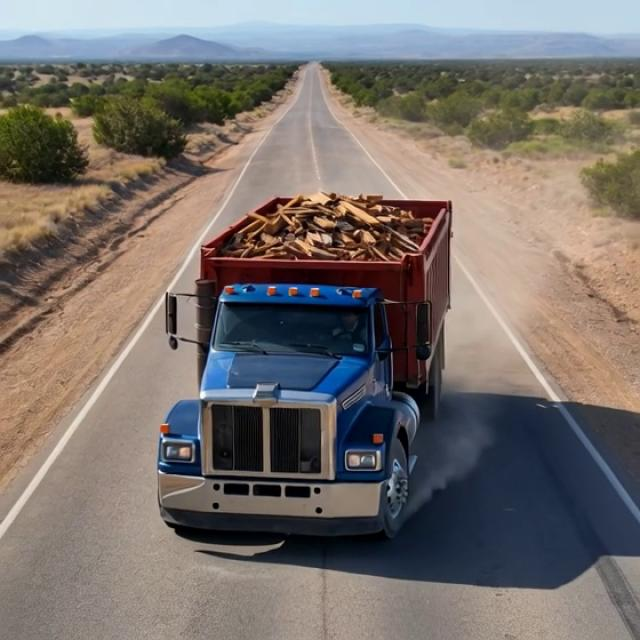trailer: (188, 192, 476, 280)
truck: (152, 176, 489, 542)
